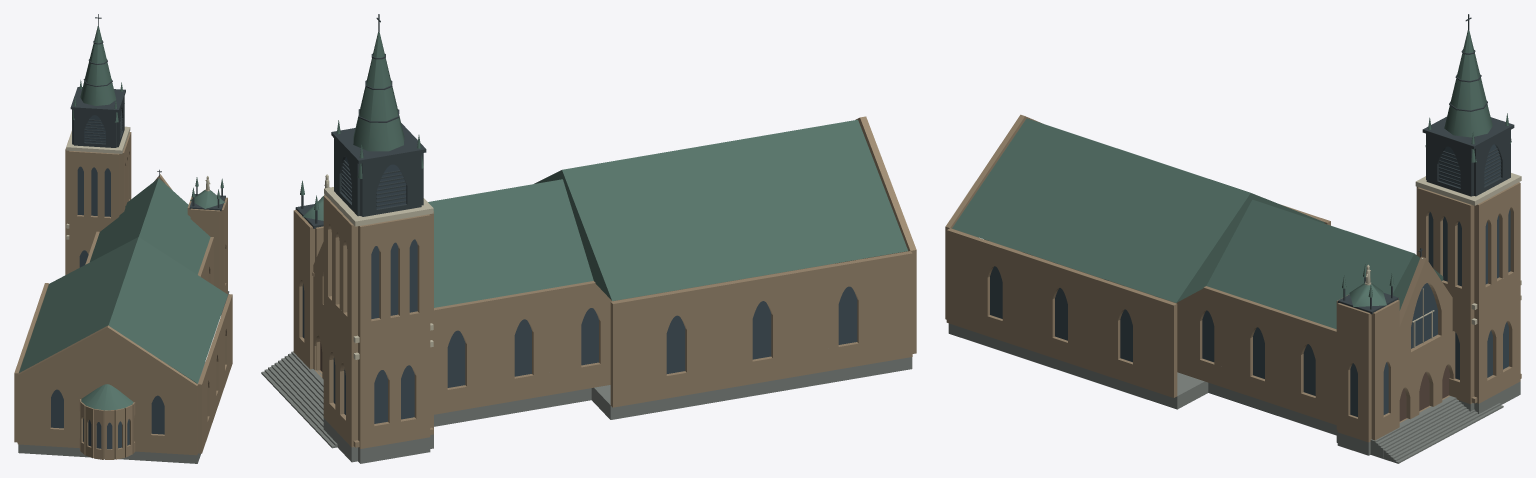
The model's file is basilique-saint-frederic-drummondville-near.glb.
3 renders of one model, left to right at view 1: azimuth 30°, elevation 25°; view 2: azimuth 150°, elevation 25°; view 3: azimuth 270°, elevation 25°, orthographic. The views are drawn at different scales.
Visible parts, largest first — view 1: basilique-saint-frederic-drummondville-0-stone, basilique-saint-frederic-drummondville-0-copper, basilique-saint-frederic-drummondville-0-glass, basilique-saint-frederic-drummondville-0-iron, basilique-saint-frederic-drummondville-0-base, basilique-saint-frederic-drummondville-0-trim; view 2: basilique-saint-frederic-drummondville-0-stone, basilique-saint-frederic-drummondville-0-copper, basilique-saint-frederic-drummondville-0-base, basilique-saint-frederic-drummondville-0-glass, basilique-saint-frederic-drummondville-0-iron, basilique-saint-frederic-drummondville-0-trim; view 3: basilique-saint-frederic-drummondville-0-stone, basilique-saint-frederic-drummondville-0-copper, basilique-saint-frederic-drummondville-0-base, basilique-saint-frederic-drummondville-0-glass, basilique-saint-frederic-drummondville-0-iron, basilique-saint-frederic-drummondville-0-trim, basilique-saint-frederic-drummondville-0-door.
Part boxes in pixels (left/top/right/bottom): basilique-saint-frederic-drummondville-0-stone: left=14, top=131, right=232, bottom=459; basilique-saint-frederic-drummondville-0-copper: left=19, top=26, right=227, bottom=410; basilique-saint-frederic-drummondville-0-glass: left=51, top=115, right=164, bottom=449; basilique-saint-frederic-drummondville-0-iron: left=70, top=14, right=225, bottom=210; basilique-saint-frederic-drummondville-0-base: left=18, top=291, right=229, bottom=463; basilique-saint-frederic-drummondville-0-trim: left=66, top=126, right=210, bottom=239; basilique-saint-frederic-drummondville-0-stone: left=293, top=116, right=916, bottom=448; basilique-saint-frederic-drummondville-0-copper: left=300, top=32, right=907, bottom=307; basilique-saint-frederic-drummondville-0-base: left=261, top=351, right=912, bottom=463; basilique-saint-frederic-drummondville-0-glass: left=302, top=157, right=857, bottom=423; basilique-saint-frederic-drummondville-0-iron: left=295, top=14, right=426, bottom=228; basilique-saint-frederic-drummondville-0-trim: left=324, top=174, right=433, bottom=359; basilique-saint-frederic-drummondville-0-stone: left=945, top=114, right=1521, bottom=442; basilique-saint-frederic-drummondville-0-copper: left=952, top=30, right=1511, bottom=329; basilique-saint-frederic-drummondville-0-base: left=948, top=323, right=1520, bottom=463; basilique-saint-frederic-drummondville-0-glass: left=990, top=144, right=1510, bottom=416; basilique-saint-frederic-drummondville-0-iron: left=1338, top=14, right=1514, bottom=314; basilique-saint-frederic-drummondville-0-trim: left=1365, top=173, right=1521, bottom=347; basilique-saint-frederic-drummondville-0-door: left=1399, top=365, right=1449, bottom=421.
Bounding box in the file's own units: 54.61 × 45.72 × 62.61.
